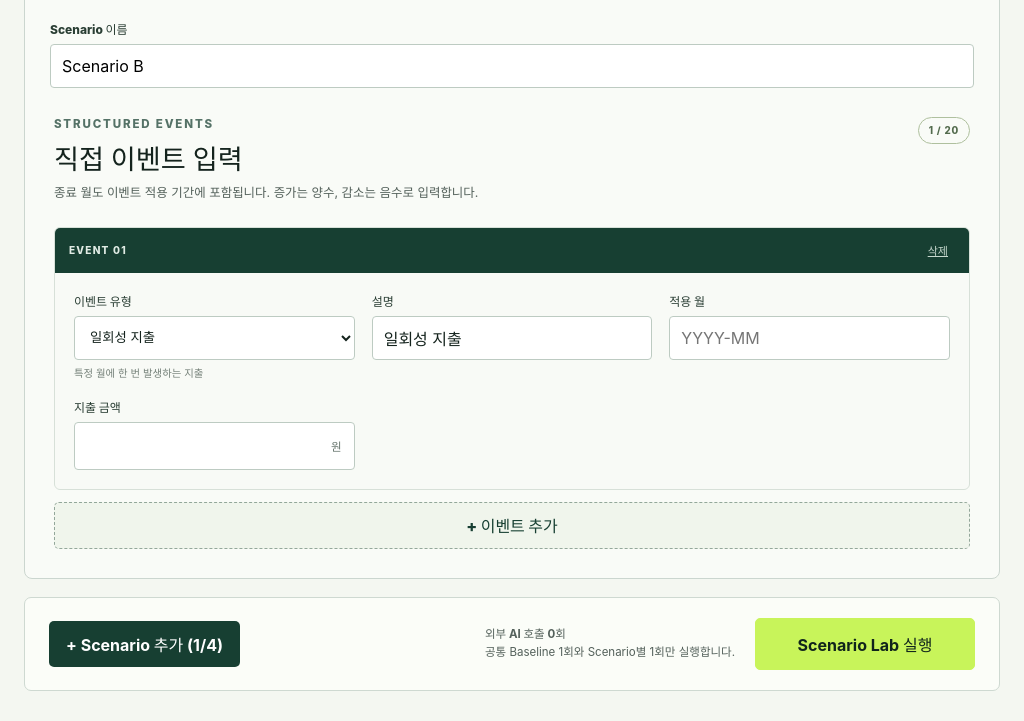
Test: ScenarioLabPage › renders backend cards, table, checkpoints and warning mappings without recalculating values
(page scrolled)
In the field labelled "적용 월": (810, 338) [669,316,950,360], type "2026-09"
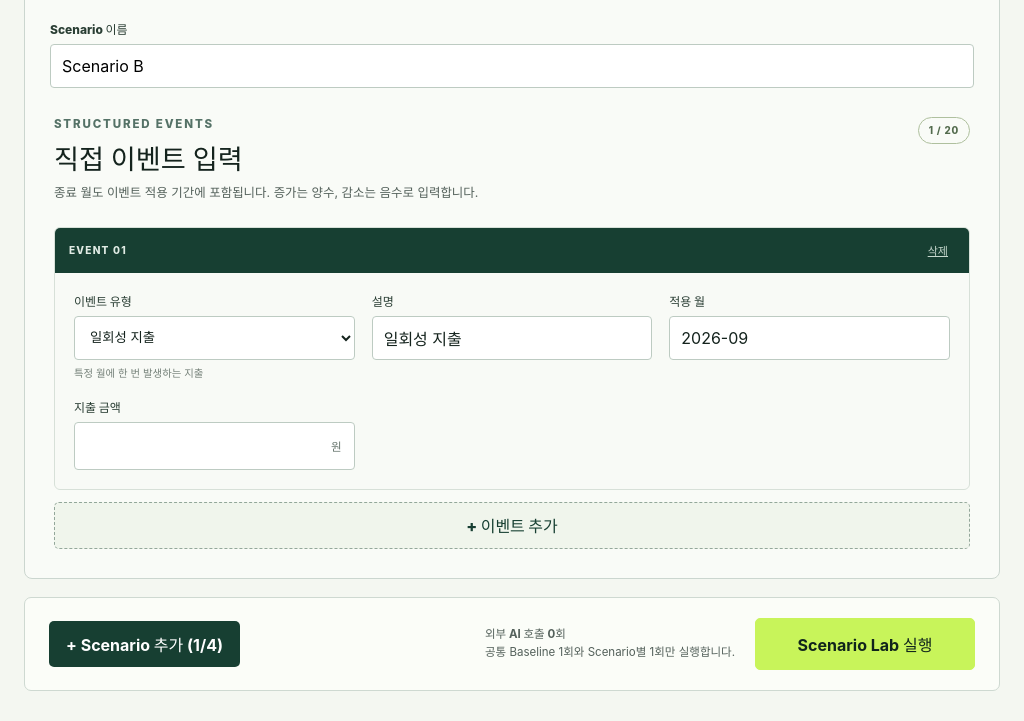
In the field labelled "지출 금액": (197, 446) [75,423,319,469], type "1000000"
(page scrolled)
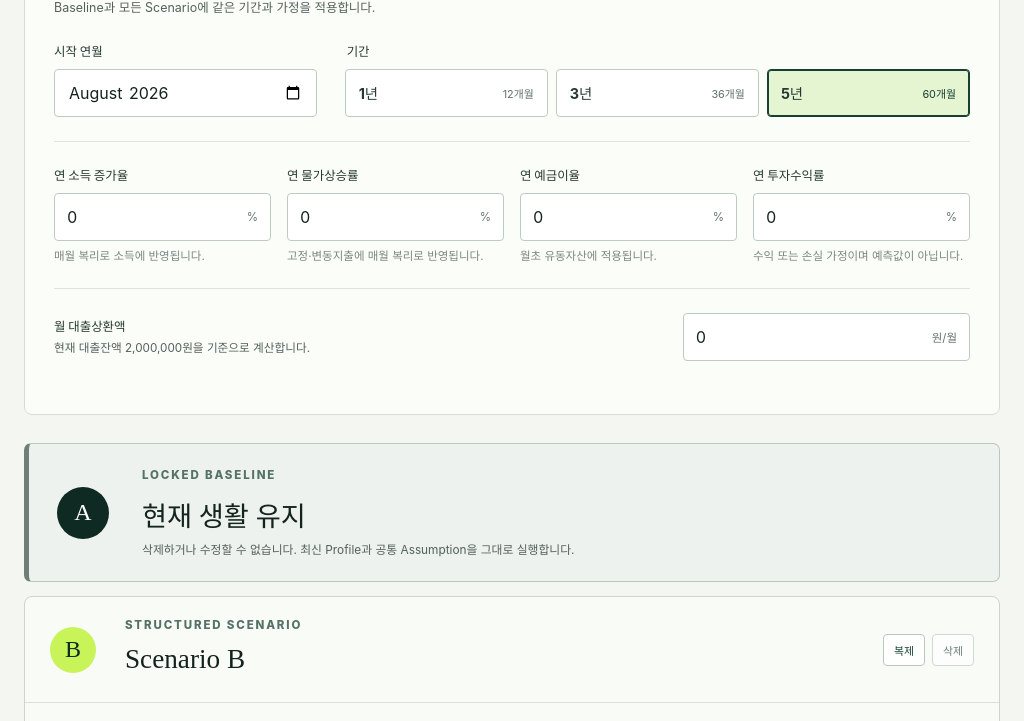
Replace the text in the field labelled "월 대출상환액" with "300000": (802, 337) [684,314,920,360]
(page scrolled)
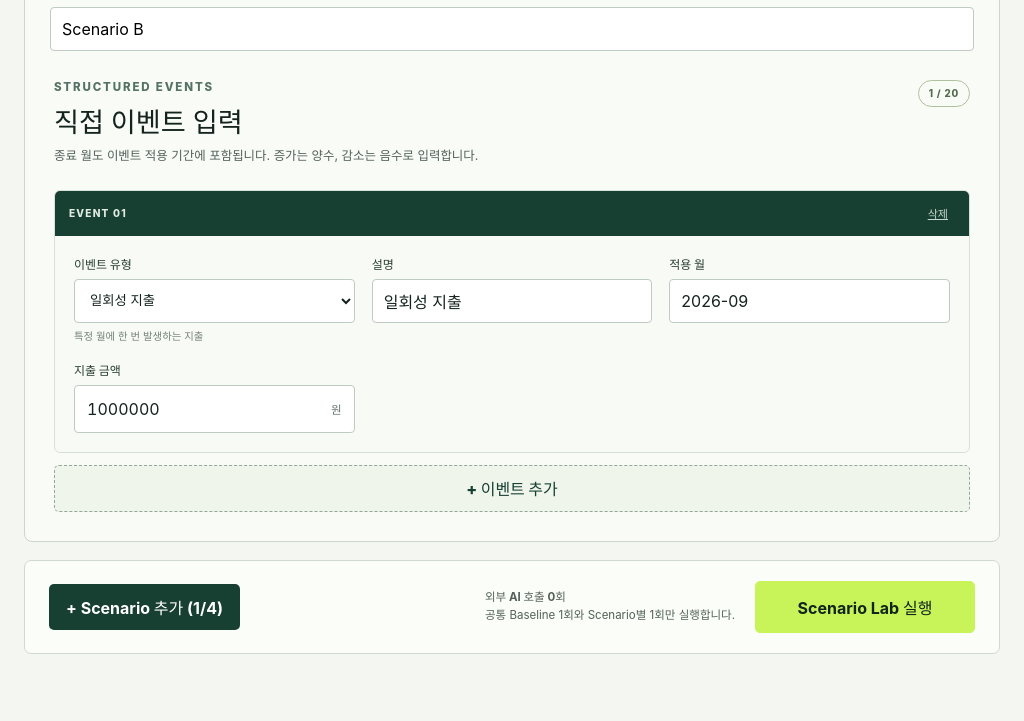
Click the button "Scenario Lab 실행": (865, 607) [755,581,975,633]
(page scrolled)
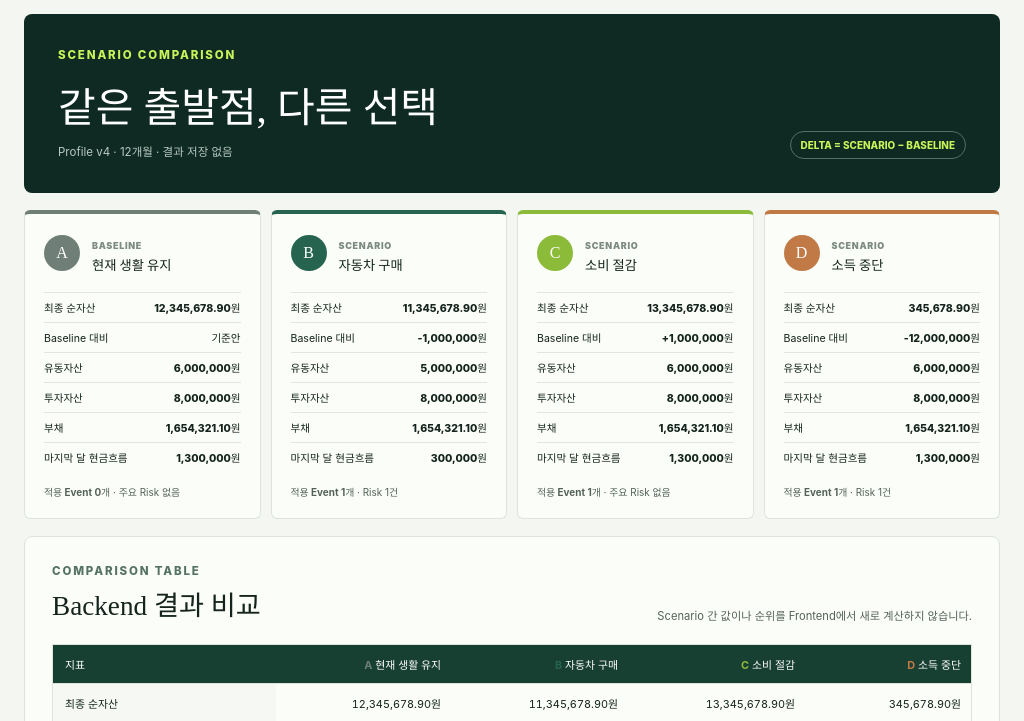
Now the heading "같은 출발점, 다른 선택" is shown, box [58,74,438,134]
Now the heading "자동차 구매" is shown, box [338,257,403,273]
Now the text "11,345,678.90원" is shown, box [403,300,487,315]
